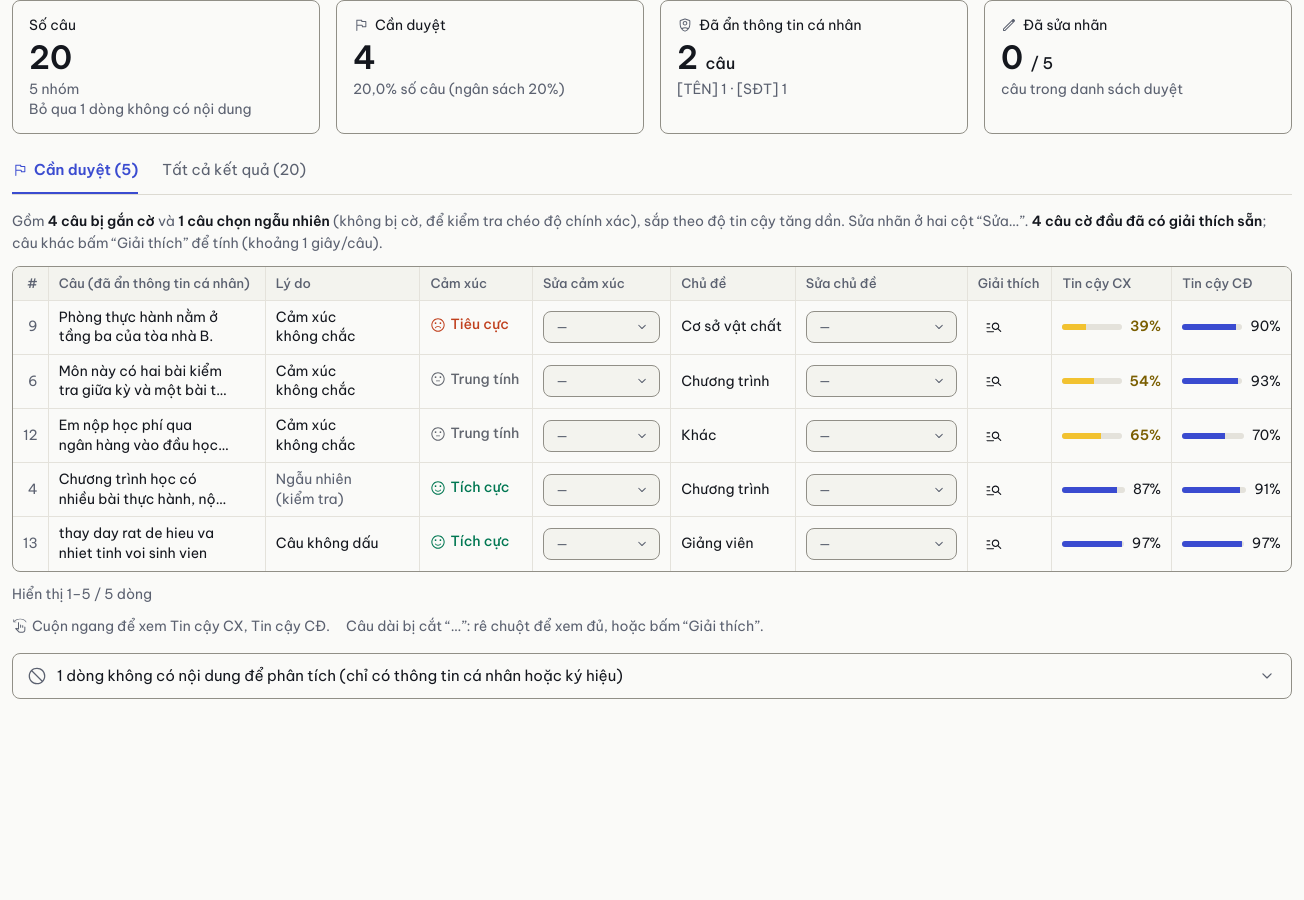
Test: ResultsSection (dữ liệu thật) › dòng chỉ còn thông tin cá nhân hoặc ký hiệu hiện riêng, không lẫn vào bảng
Expected: the text "Bỏ qua 1 dòng không có nội dung" is shown, [29, 100, 252, 118]
What coordinates should you click on to do the following:
click the button "1 dòng không có nội dung để phân tích"
I would click on:
 (343, 676)
Its box is [13, 654, 1291, 698].
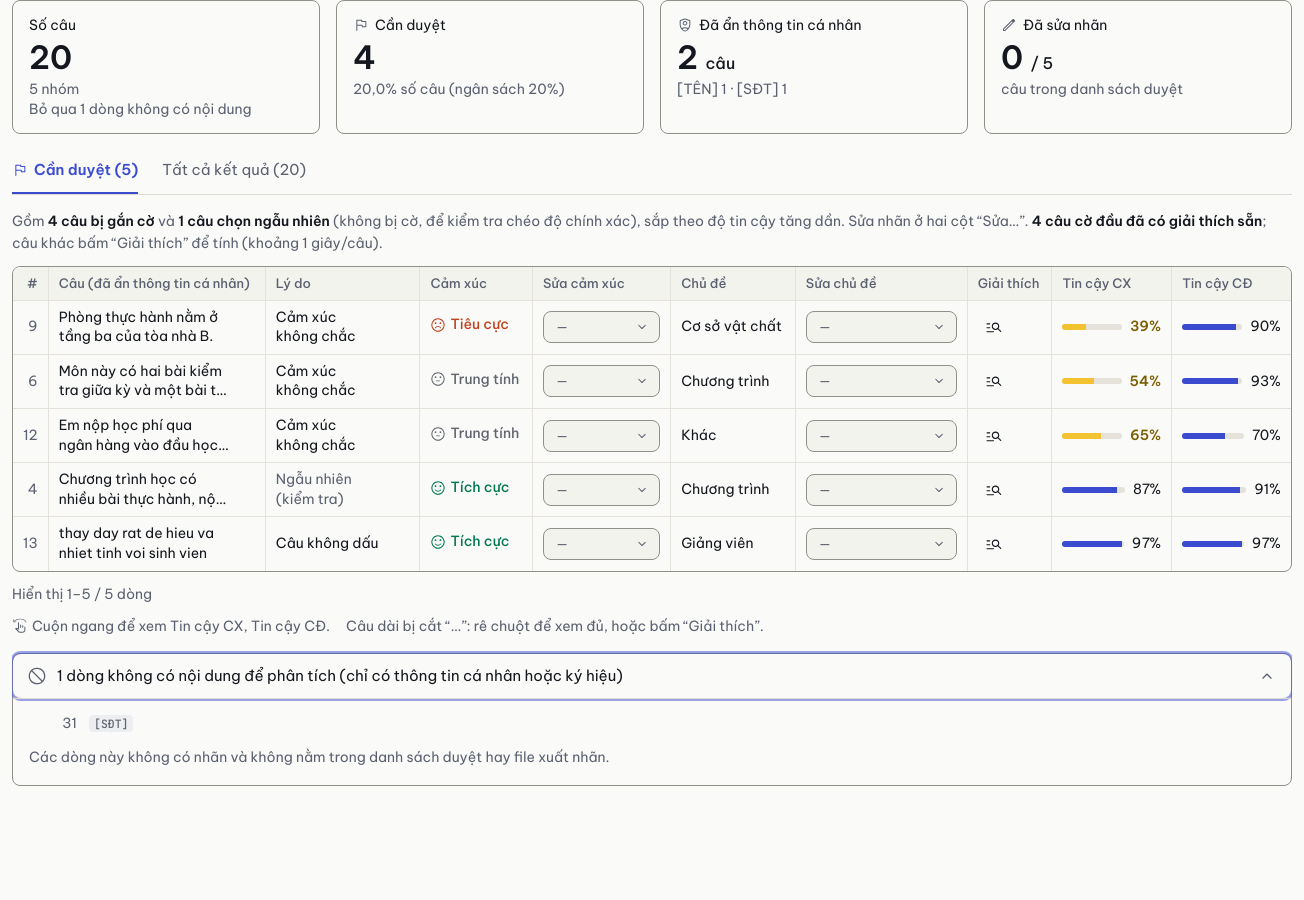
Now the text "31" is shown, box [62, 714, 77, 732]
Now the text "không có nhãn và không nằm trong danh sách duyệt" is shown, box [29, 748, 610, 766]
